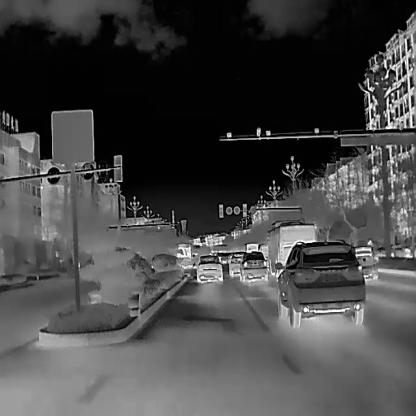bus: (243, 242, 257, 250)
car: (272, 238, 364, 328), (264, 217, 316, 280), (352, 244, 377, 280), (195, 254, 222, 283), (239, 249, 266, 278), (227, 251, 245, 275), (257, 240, 270, 258)
truck: (174, 241, 192, 279)
